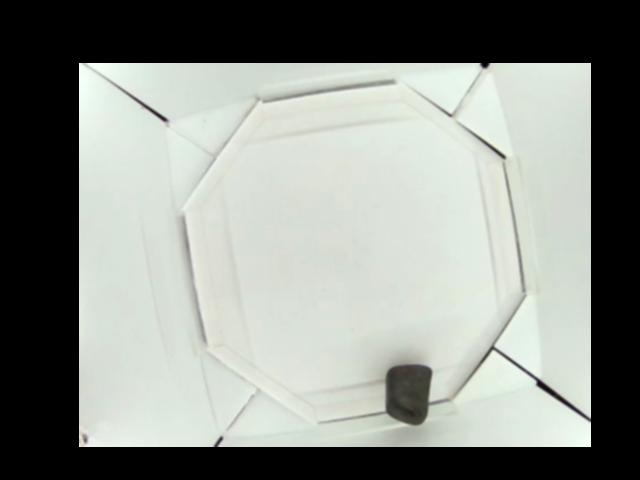Pebble: (385, 362, 430, 425)
